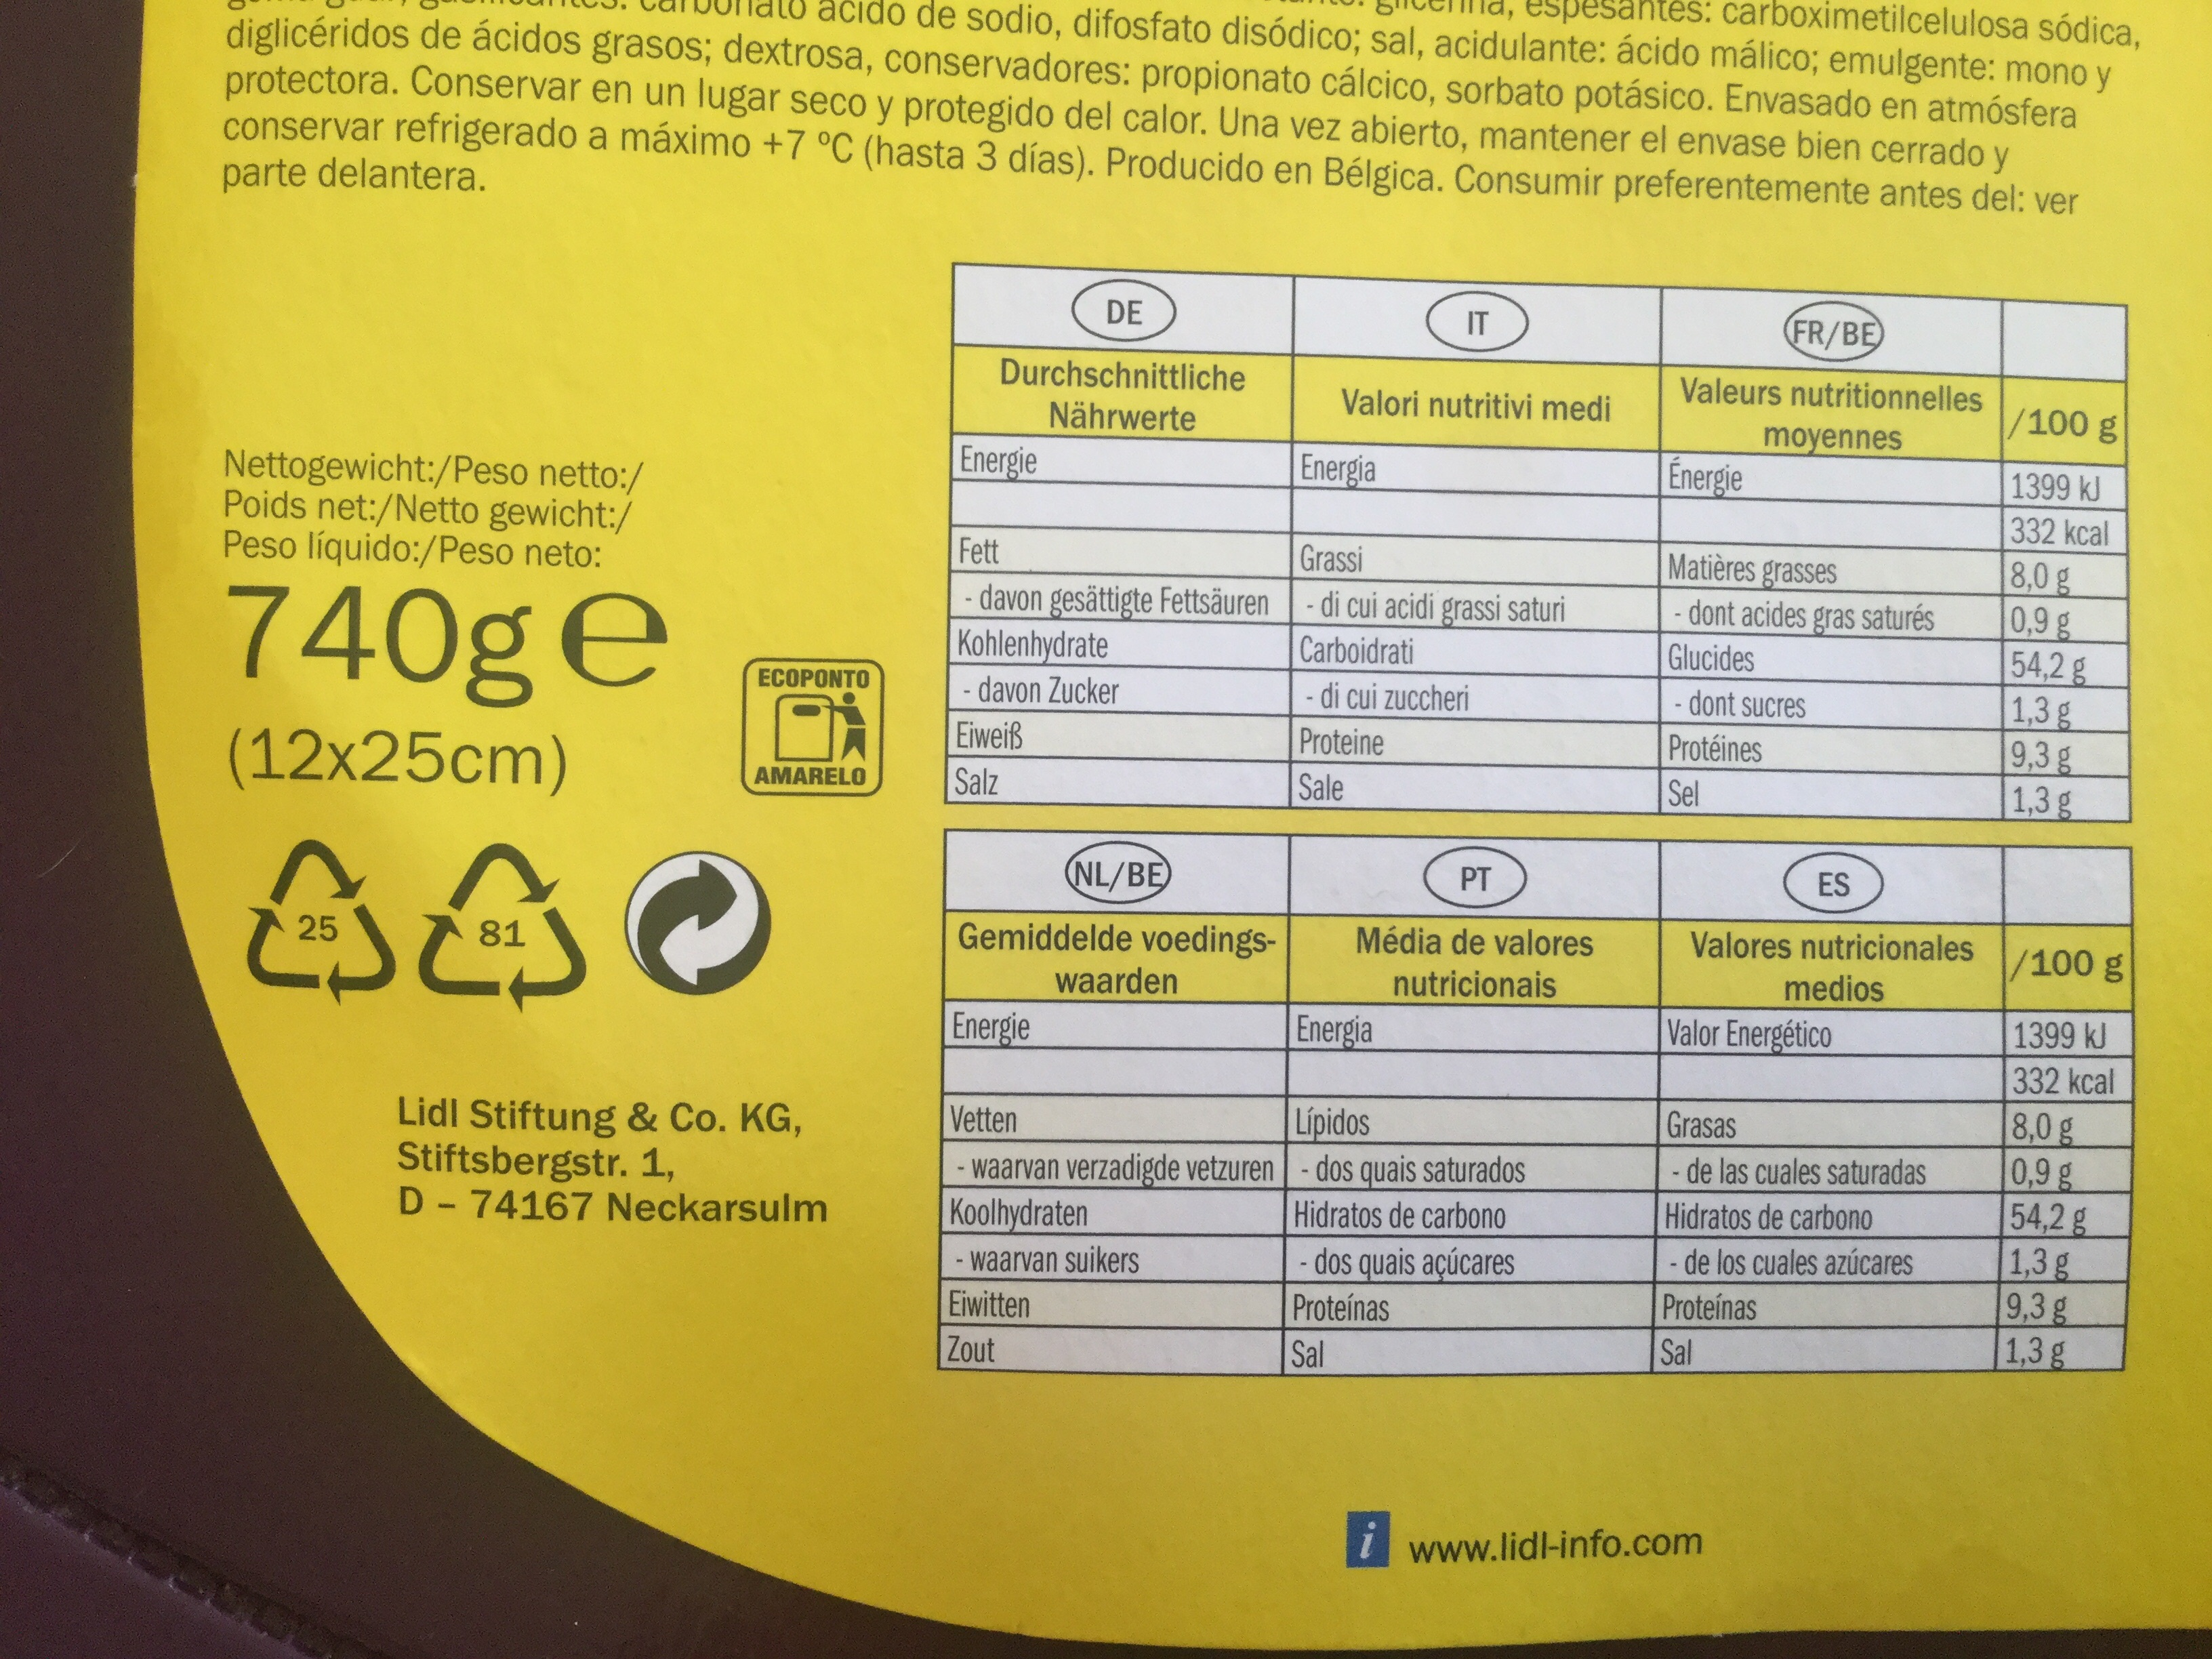column: (948, 833, 1277, 1371), (1299, 270, 1618, 807), (960, 270, 1280, 803), (1287, 843, 1606, 1368), (1672, 293, 1991, 807), (1665, 849, 1980, 1366), (2006, 859, 2130, 1366), (2008, 307, 2118, 810)
table: (944, 227, 2141, 823), (939, 823, 2135, 1382)
